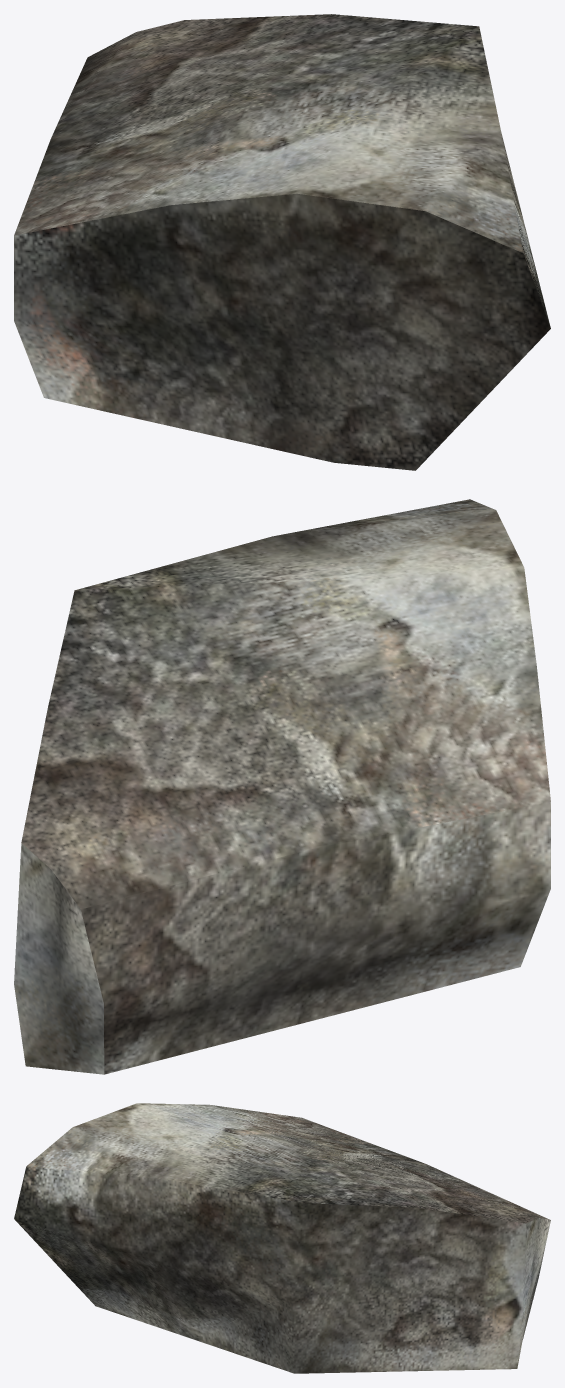
The model's file is SM_Sandstone_Rock_A_06.fbx.
3 renders of one model, top to bottom at view 1: azimuth 30°, elevation 25°; view 2: azimuth 150°, elevation 25°; view 3: azimuth 270°, elevation 25°, orthographic. The views are drawn at different scales.
Parts seen in each view (by area): view 1: SM_Sandstone_Rock_A_06; view 2: SM_Sandstone_Rock_A_06; view 3: SM_Sandstone_Rock_A_06.
Part boxes in pixels (x1,y1,x2,y2): SM_Sandstone_Rock_A_06: (14,14,550,470); SM_Sandstone_Rock_A_06: (14,499,550,1074); SM_Sandstone_Rock_A_06: (14,1103,550,1373).
Size of the model in its own units: 87.55 by 56.43 by 134.
